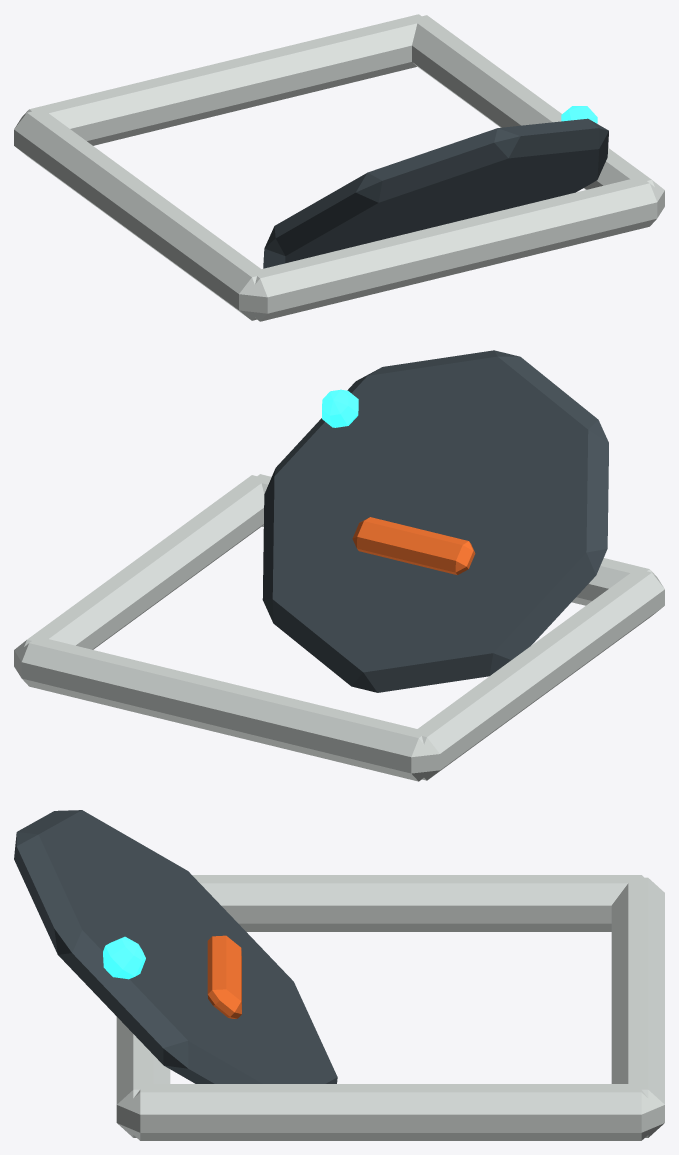
File: LPK_EVA_TopHatch_1p6m.fbx
3 views of the same model, one above another, from view 1: azimuth 30°, elevation 25°; view 2: azimuth 150°, elevation 25°; view 3: azimuth 270°, elevation 25° (orthographic). The views are drawn at different scales.
Visible parts, largest first — view 1: EVAHatchLid, Hatch_Frame_Front, Hatch_Frame_Back, Hatch_Frame_Left, Hatch_Frame_Right; view 2: EVAHatchLid, Hatch_Frame_Back, Hatch_Frame_Left, Hatch_Frame_Right, EVAHatch_OrangeHandle, Hatch_Frame_Front, EVAHatch_TealIndicator; view 3: EVAHatchLid, Hatch_Frame_Right, Hatch_Frame_Left, Hatch_Frame_Back, Hatch_Frame_Front, EVAHatch_OrangeHandle, EVAHatch_TealIndicator.
Boxes of the visible parts, x1,y1,x2,y2 form: EVAHatchLid: (263, 118, 608, 268); Hatch_Frame_Front: (247, 176, 662, 321); Hatch_Frame_Back: (17, 14, 427, 145); Hatch_Frame_Left: (14, 109, 266, 320); Hatch_Frame_Right: (412, 15, 664, 209); EVAHatchLid: (262, 350, 608, 692); Hatch_Frame_Back: (16, 636, 431, 781); Hatch_Frame_Left: (413, 569, 664, 780); Hatch_Frame_Right: (14, 475, 264, 673); EVAHatch_OrangeHandle: (352, 517, 475, 574); Hatch_Frame_Front: (251, 474, 661, 605); EVAHatch_TealIndicator: (322, 389, 358, 427); EVAHatchLid: (14, 810, 337, 1083); Hatch_Frame_Right: (123, 1084, 648, 1140); Hatch_Frame_Left: (192, 875, 643, 931); Hatch_Frame_Back: (611, 877, 664, 1137); Hatch_Frame_Front: (116, 1017, 170, 1137); EVAHatch_OrangeHandle: (207, 935, 241, 1018); EVAHatch_TealIndicator: (103, 936, 145, 979).
Size of the model in its own units: 164 by 88.29 by 195.
